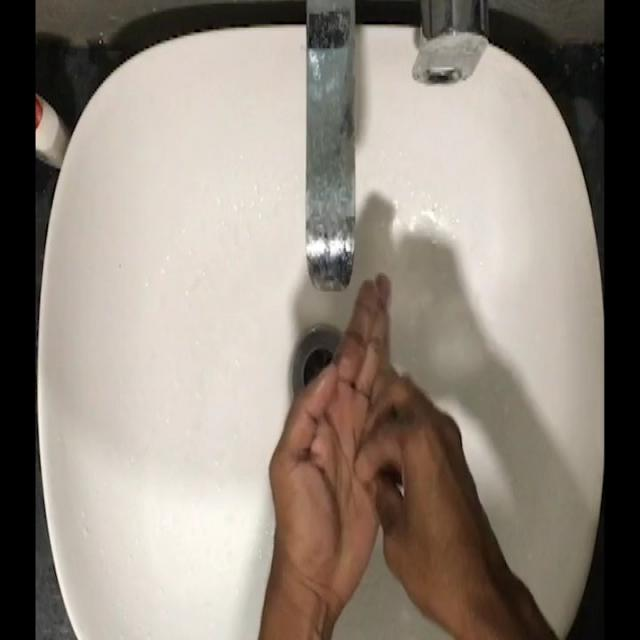step_6: (260, 269, 496, 595)
